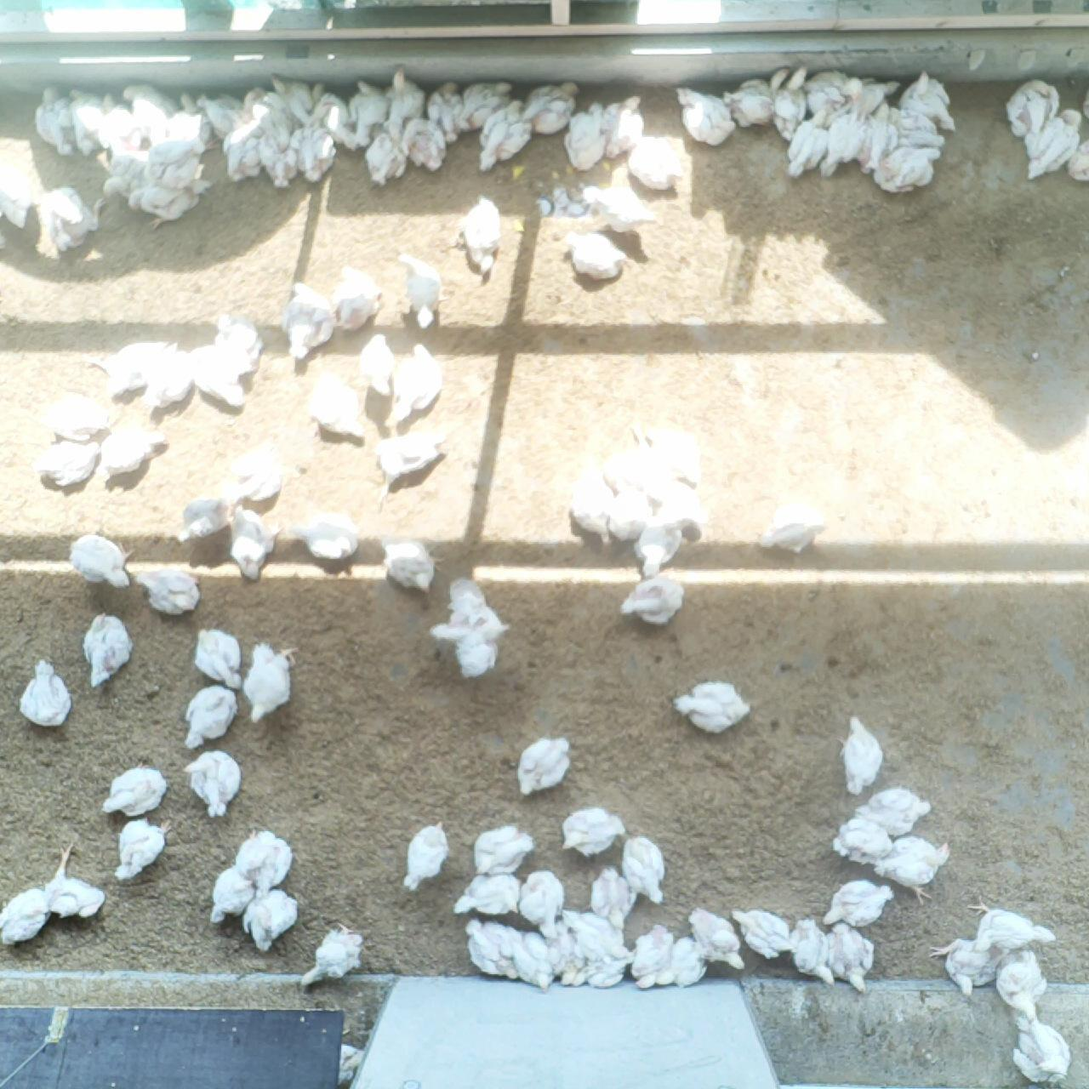chicken: (964, 895, 1062, 958), (377, 430, 449, 509), (873, 837, 954, 902), (82, 338, 168, 393), (386, 345, 440, 429), (478, 94, 533, 172), (245, 643, 299, 721), (673, 681, 753, 733), (298, 924, 362, 987), (48, 842, 103, 914), (282, 280, 334, 356), (38, 189, 106, 247), (1014, 1012, 1071, 1081), (1022, 111, 1078, 181), (397, 250, 447, 328), (2, 880, 60, 947), (312, 372, 370, 439), (901, 68, 959, 135), (687, 905, 747, 969), (826, 924, 879, 995), (562, 229, 632, 282), (193, 345, 248, 412), (182, 750, 237, 816), (239, 825, 290, 896), (759, 499, 828, 551), (115, 817, 171, 881), (103, 761, 168, 816), (99, 144, 174, 191), (32, 436, 101, 487), (147, 346, 199, 413), (290, 514, 361, 563), (929, 936, 992, 991), (1003, 950, 1051, 1021), (43, 393, 111, 443), (569, 467, 611, 547), (646, 427, 708, 481), (461, 191, 501, 274), (231, 507, 277, 579), (733, 65, 790, 123), (244, 887, 297, 949), (730, 908, 795, 958), (785, 112, 835, 177), (380, 537, 437, 594), (648, 472, 703, 531), (164, 91, 218, 151), (672, 89, 733, 142), (69, 533, 131, 585), (559, 909, 626, 957), (516, 736, 570, 795), (858, 788, 932, 831), (819, 106, 862, 180), (474, 824, 534, 877), (85, 613, 129, 685), (840, 715, 881, 792), (600, 482, 650, 545), (1006, 73, 1056, 136), (562, 806, 627, 854), (623, 834, 668, 903), (23, 659, 69, 726), (567, 95, 607, 172), (624, 573, 688, 621), (630, 132, 682, 191), (185, 684, 236, 744), (835, 813, 894, 864), (211, 311, 261, 371), (207, 858, 253, 923), (107, 423, 164, 475), (136, 571, 203, 615), (527, 77, 576, 137), (131, 186, 201, 228), (792, 921, 835, 989), (852, 102, 892, 175), (824, 881, 893, 923), (233, 444, 284, 500), (405, 822, 448, 888), (455, 872, 518, 917), (175, 491, 234, 539), (507, 928, 554, 988), (246, 89, 292, 149), (465, 79, 519, 130), (96, 90, 140, 152), (573, 947, 641, 987), (635, 922, 676, 988), (583, 185, 649, 226), (604, 448, 664, 493), (228, 123, 273, 183), (522, 869, 564, 933), (336, 266, 380, 327), (892, 107, 953, 151), (448, 579, 489, 644), (658, 935, 710, 986), (390, 64, 429, 132), (351, 77, 391, 143), (271, 76, 330, 120), (142, 140, 201, 184), (193, 628, 240, 683), (125, 84, 172, 139), (878, 148, 941, 189), (370, 121, 409, 184), (776, 66, 808, 142), (542, 928, 585, 984), (294, 123, 334, 183), (465, 923, 513, 972), (430, 80, 469, 140), (197, 88, 250, 132), (460, 621, 500, 679), (607, 94, 647, 151), (1, 156, 33, 225), (404, 120, 448, 170), (33, 87, 72, 143), (318, 94, 358, 148), (641, 517, 681, 570), (804, 69, 851, 114), (836, 80, 902, 112), (591, 866, 626, 924), (71, 88, 101, 154), (264, 133, 300, 186), (362, 333, 391, 393), (105, 175, 166, 201), (334, 1043, 373, 1077), (1066, 140, 1089, 182)
